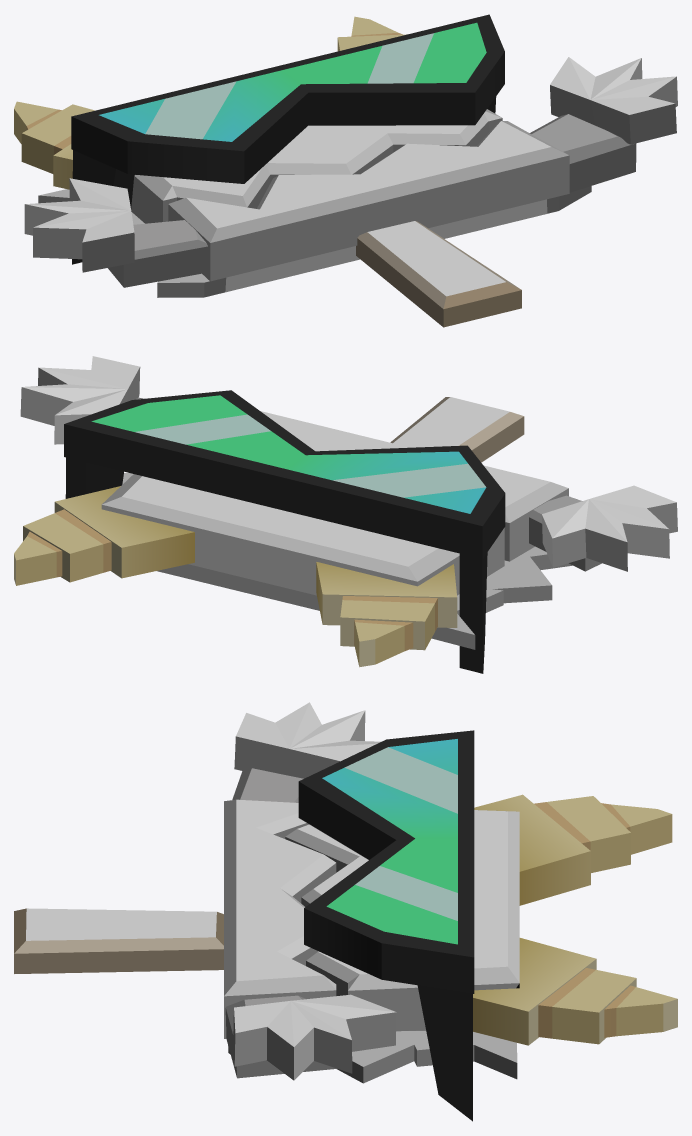
Rendered from yetiSignBoss.fbx.
3 views of the same model, one above another, from view 1: azimuth 30°, elevation 25°; view 2: azimuth 150°, elevation 25°; view 3: azimuth 270°, elevation 25° (orthographic). The views are drawn at different scales.
Visible parts, largest first — view 1: YetiSignBossBottom, YetiSignBossTop; view 2: YetiSignBossTop, YetiSignBossBottom; view 3: YetiSignBossTop, YetiSignBossBottom.
Boxes of the visible parts, box(x1,y1,x2,y2) form: YetiSignBossBottom: box(24, 57, 677, 327); YetiSignBossTop: box(14, 14, 591, 297); YetiSignBossTop: box(14, 390, 572, 673); YetiSignBossBottom: box(20, 356, 677, 571); YetiSignBossTop: box(228, 730, 677, 1121); YetiSignBossBottom: box(14, 702, 426, 1080).
Bounding box in the file's own units: 251 × 56.24 × 203.
